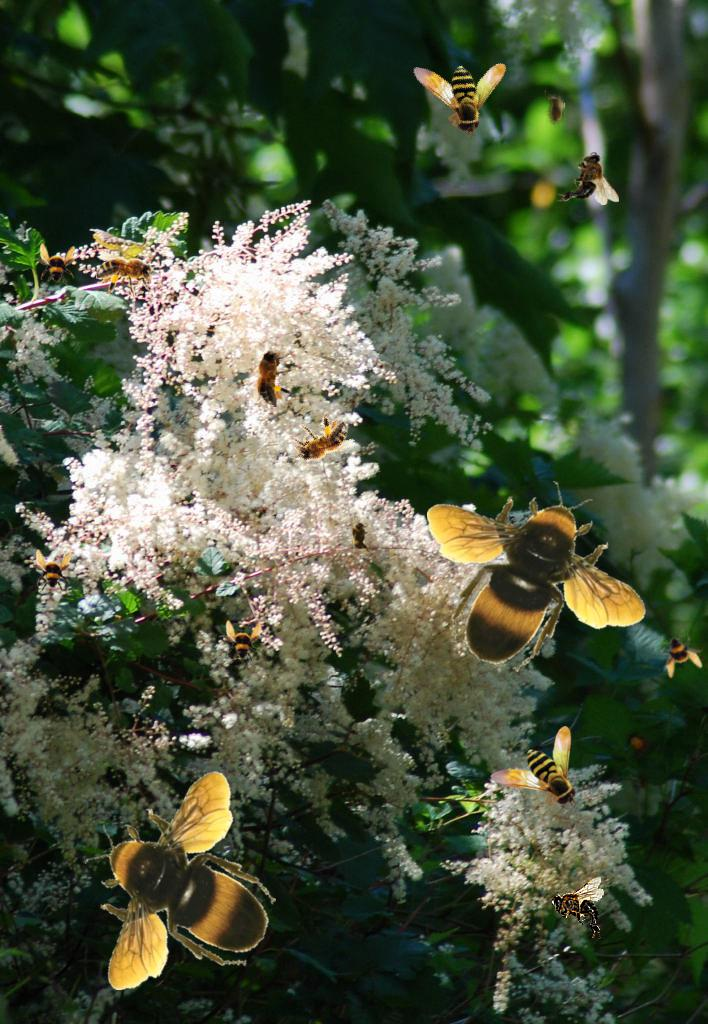Bee: (427, 481, 647, 672), (85, 770, 276, 990), (397, 25, 515, 141), (490, 726, 578, 808), (278, 404, 358, 479), (557, 152, 619, 205), (551, 877, 604, 939), (652, 624, 708, 682), (251, 341, 296, 407), (96, 252, 162, 297), (219, 620, 263, 664), (29, 549, 73, 593), (33, 243, 77, 287), (544, 90, 566, 130), (349, 516, 371, 556)
